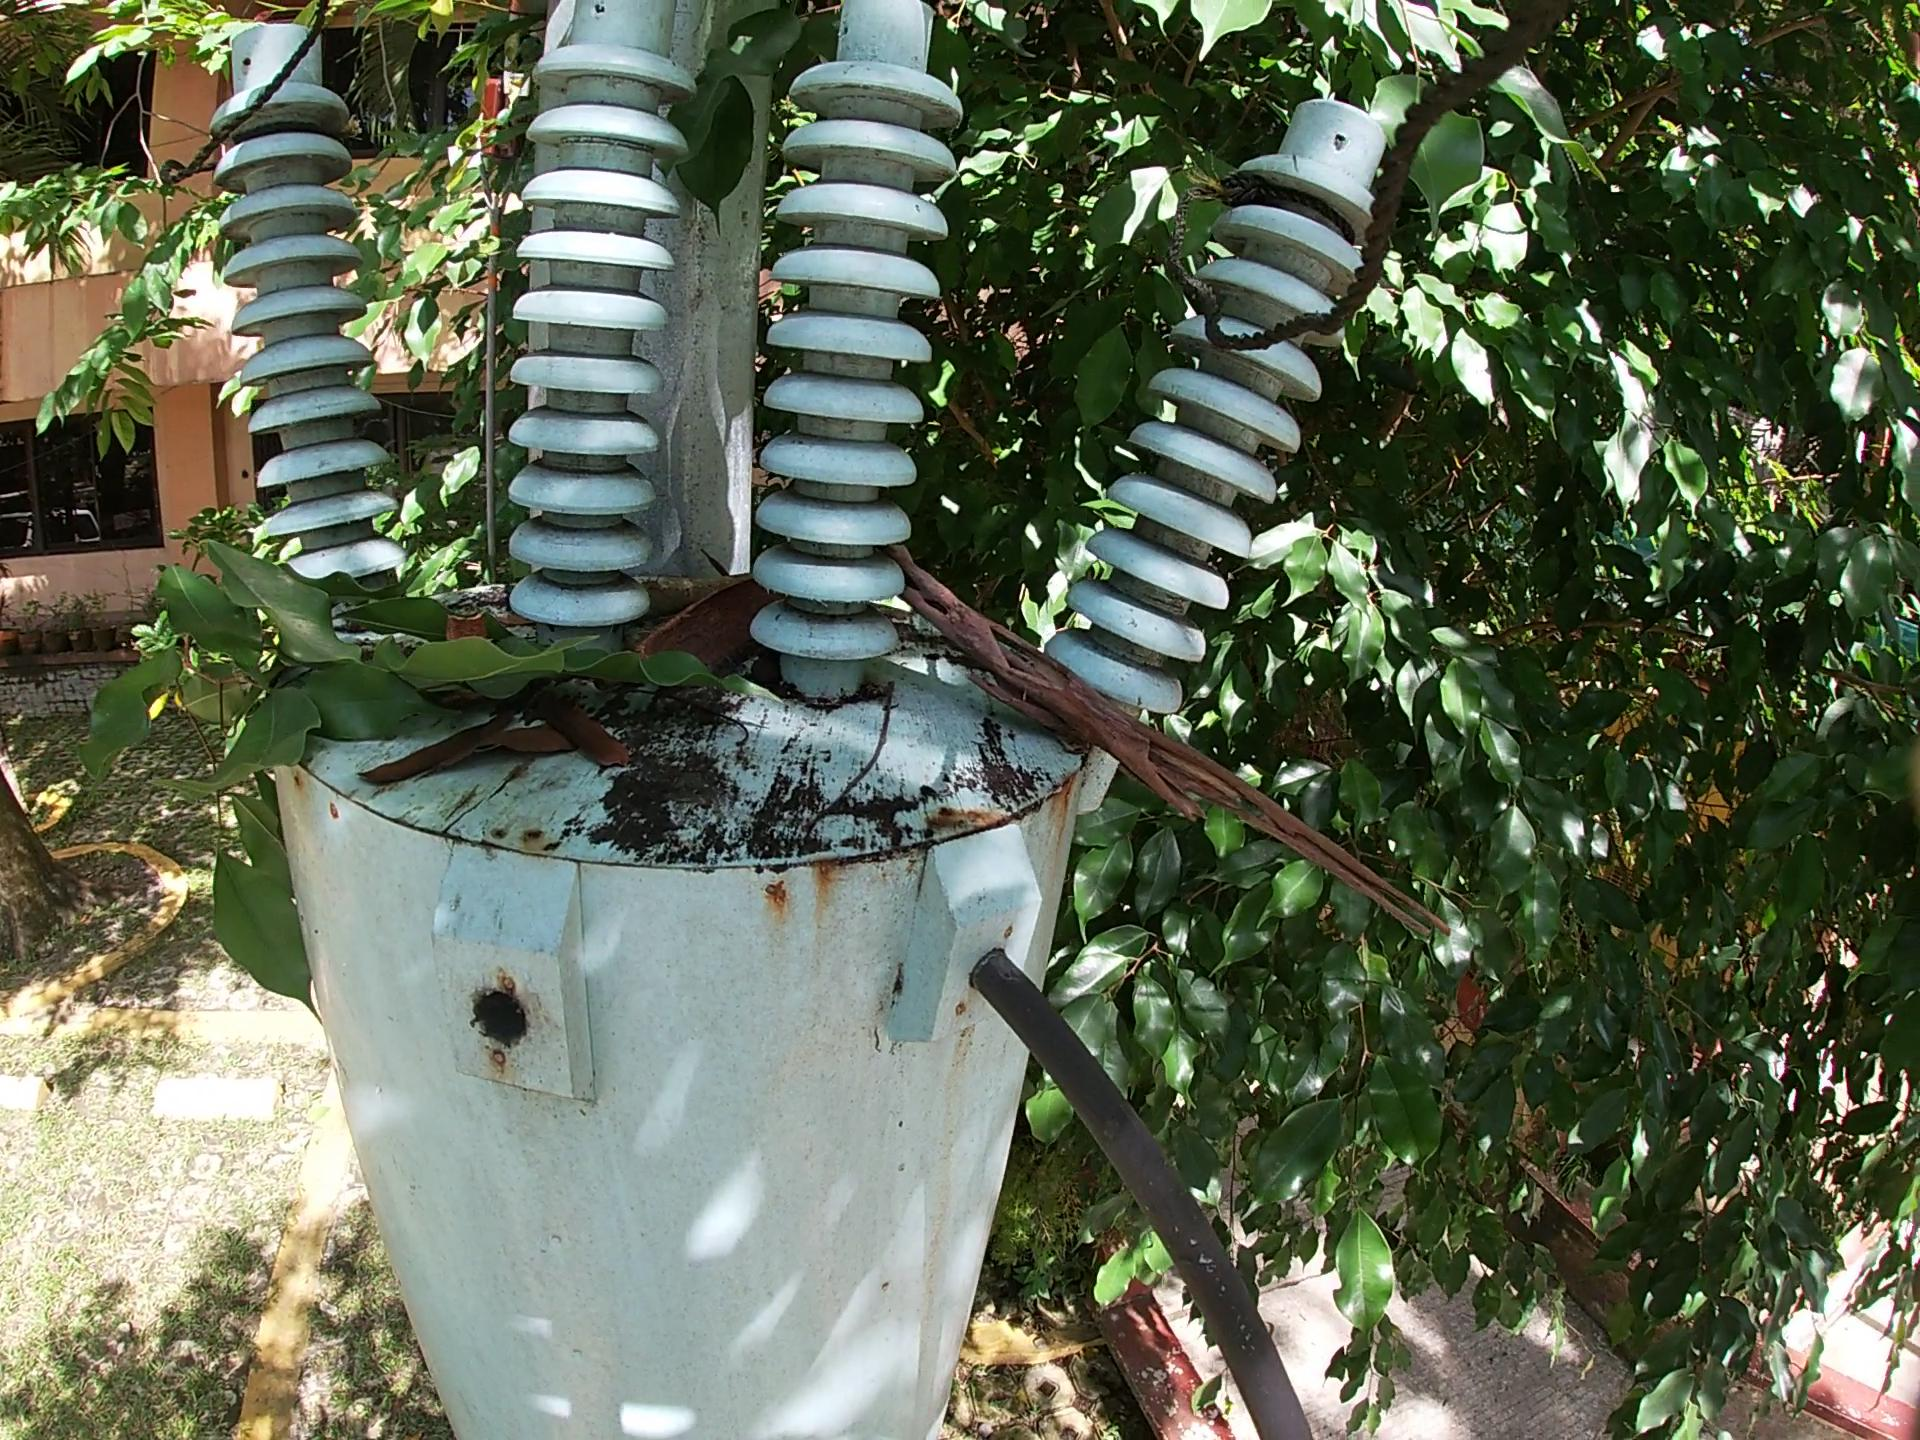branch with leaves: (73, 531, 791, 1032)
leaf: (352, 706, 516, 796), (531, 702, 633, 771), (447, 722, 581, 773)
mahogany fruit: (630, 573, 785, 673)
tree branch: (878, 543, 1456, 948)
